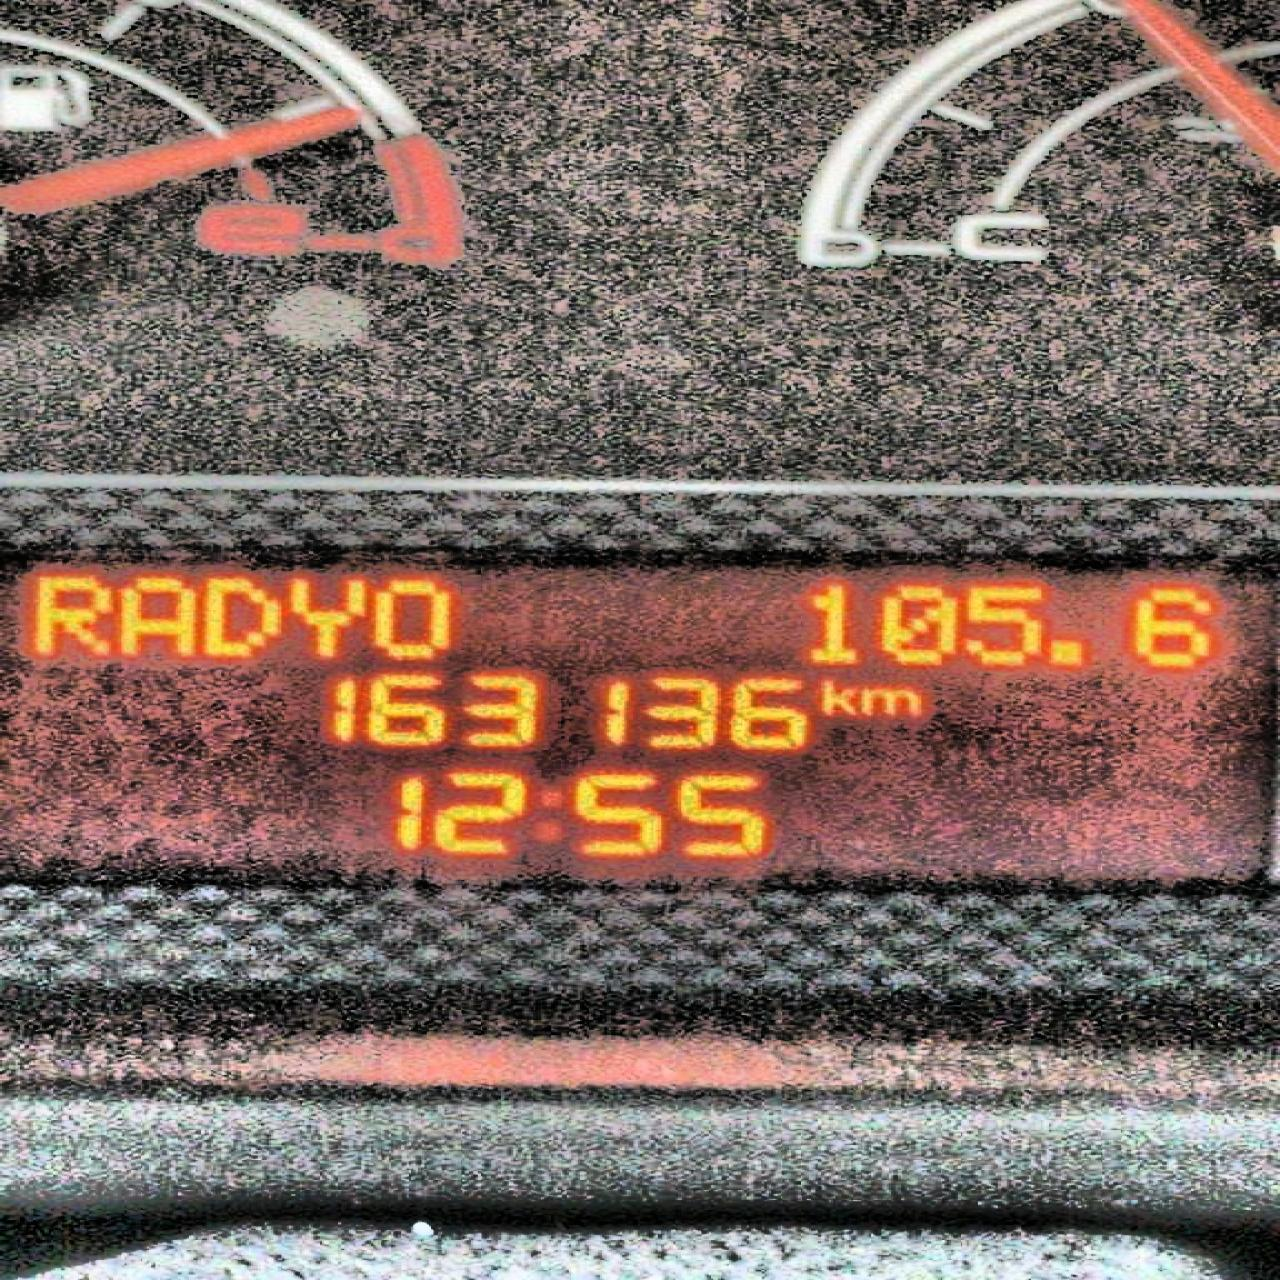-: (1044, 632, 1087, 669)
0: (873, 576, 962, 669)
1: (791, 574, 862, 665), (367, 765, 427, 855), (578, 670, 638, 745), (306, 670, 355, 745)
2: (427, 762, 526, 859)
3: (456, 663, 543, 753), (638, 667, 720, 756)
5: (662, 768, 769, 862), (573, 769, 662, 860), (960, 576, 1044, 670)
6: (1114, 580, 1225, 673), (360, 665, 449, 749), (720, 670, 811, 751)
X: (18, 566, 114, 659), (111, 565, 198, 661), (198, 564, 282, 661), (367, 570, 456, 661), (282, 570, 367, 660), (856, 681, 926, 719), (526, 784, 565, 846), (813, 670, 856, 717)
odometer: (0, 544, 1278, 905)
